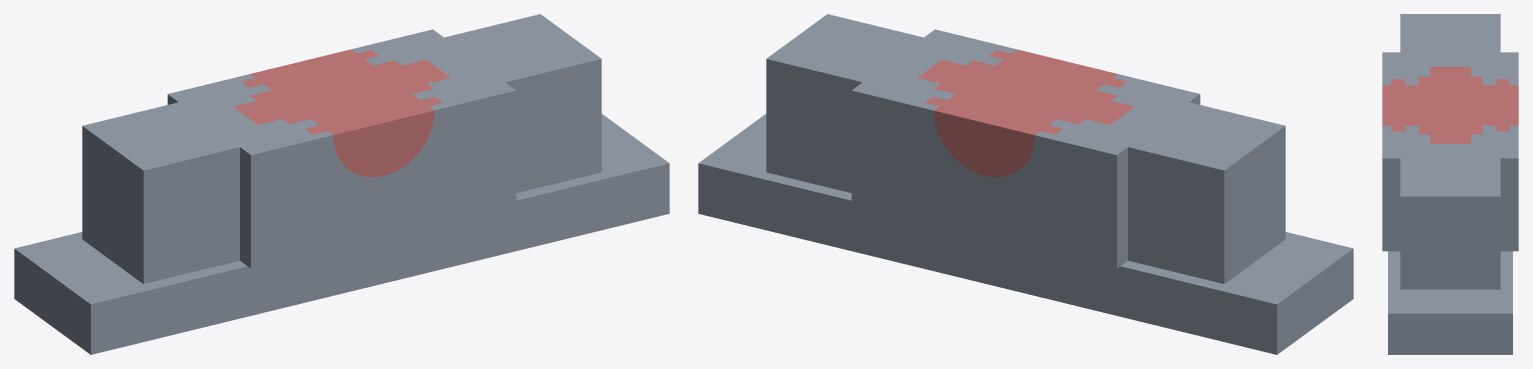
The model's file is step_03.glb.
3 views of the same model, side by side, from view 1: azimuth 30°, elevation 25°; view 2: azimuth 150°, elevation 25°; view 3: azimuth 270°, elevation 25° (orthographic). The views are drawn at different scales.
Visible parts, largest first — view 1: part__housing base, removed__housing base; view 2: part__housing base, removed__housing base; view 3: part__housing base, removed__housing base.
Part boxes in pixels (x1,y1,x2,y2): part__housing base: (14, 14, 669, 354); removed__housing base: (233, 49, 450, 177); part__housing base: (698, 14, 1353, 354); removed__housing base: (917, 49, 1134, 177); part__housing base: (1382, 14, 1518, 354); removed__housing base: (1382, 67, 1518, 143).
Bounding box in the file's own units: 240 × 65 × 60.
